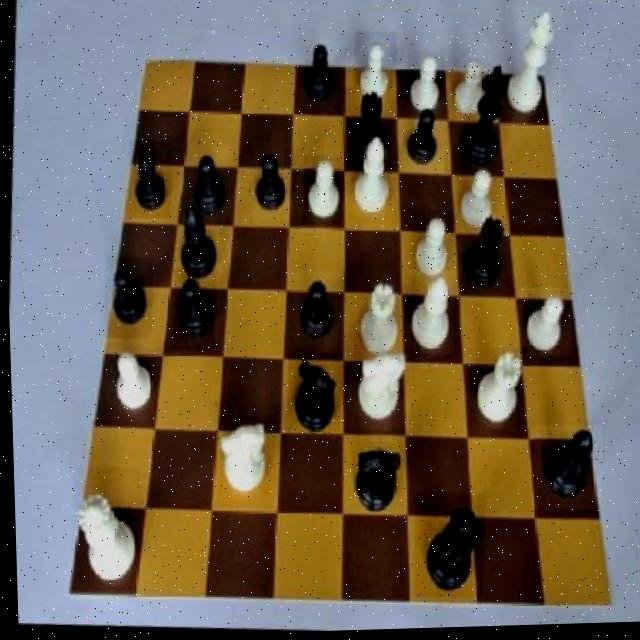bishop: (528, 428, 603, 516), (168, 194, 221, 291)
black-bishop: (453, 56, 517, 176)
black-king: (337, 440, 406, 522), (282, 353, 341, 438)
black-knight: (98, 255, 153, 340), (176, 144, 234, 224), (167, 269, 216, 355), (289, 271, 340, 351), (395, 102, 446, 179), (124, 141, 173, 221), (249, 142, 291, 224), (296, 40, 340, 118)
black-pawn: (407, 494, 484, 602)
black-queen: (336, 88, 394, 179), (453, 216, 512, 305)
black-rook: (400, 271, 455, 359), (344, 131, 393, 226)
white-bishop: (499, 7, 567, 133)
white-king: (343, 341, 412, 434), (209, 415, 271, 513)
white-knight: (514, 290, 573, 362), (103, 341, 153, 425), (350, 32, 398, 116), (451, 162, 503, 239), (405, 211, 453, 291), (445, 52, 488, 130), (299, 157, 343, 232), (403, 51, 446, 126)
white-pawn: (63, 465, 142, 593)
white-queen: (465, 348, 527, 434), (348, 275, 402, 364)
